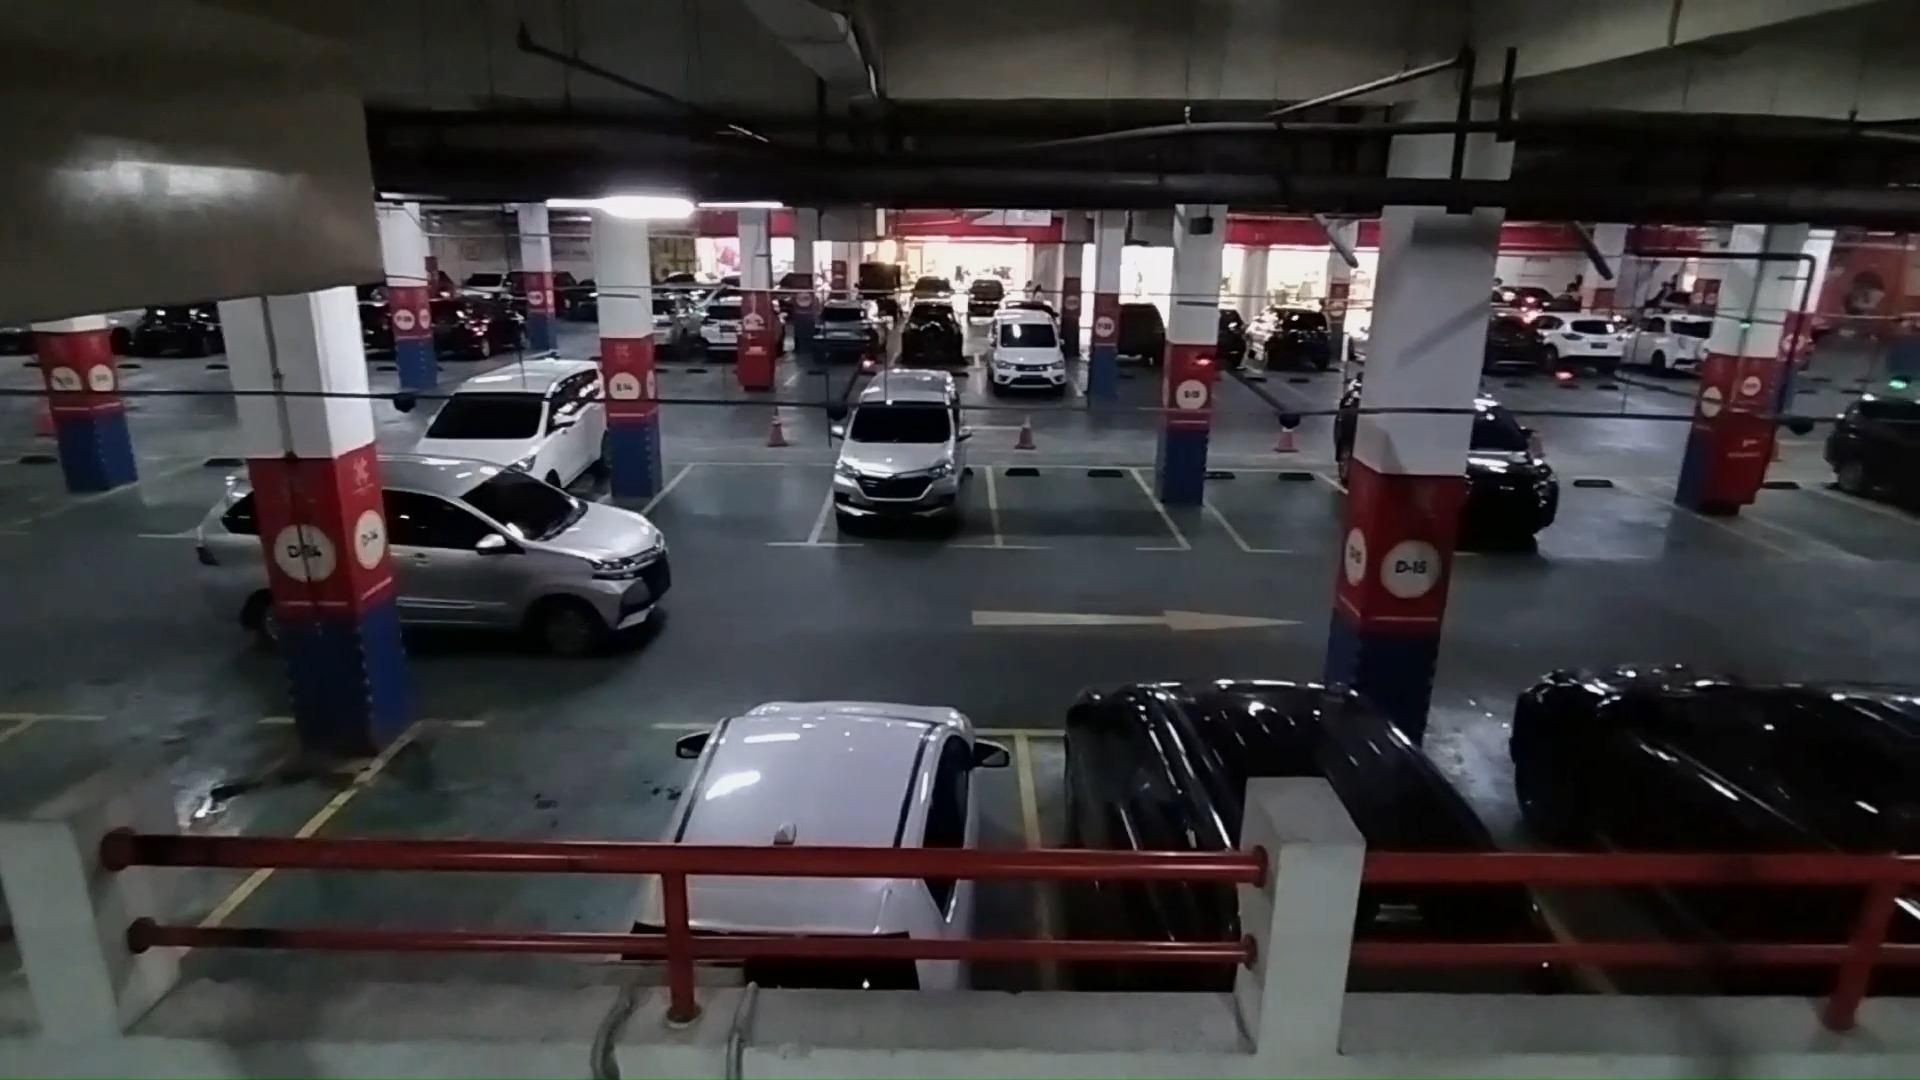empty: (333, 717, 691, 844), (992, 460, 1173, 554), (662, 454, 829, 548), (1213, 462, 1349, 557)
occupied: (668, 717, 1036, 854), (822, 441, 990, 553)
